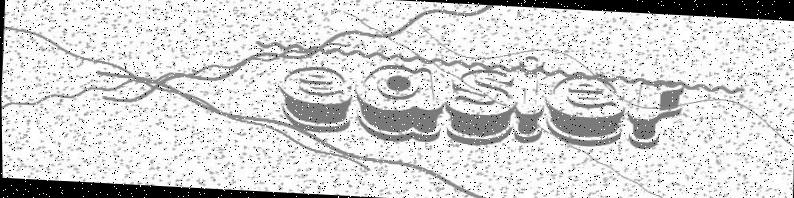a: (353, 61, 445, 143)
e: (543, 69, 630, 147), (274, 60, 356, 134)
i: (512, 51, 548, 145)
r: (620, 71, 688, 153)
s: (441, 63, 517, 146)
